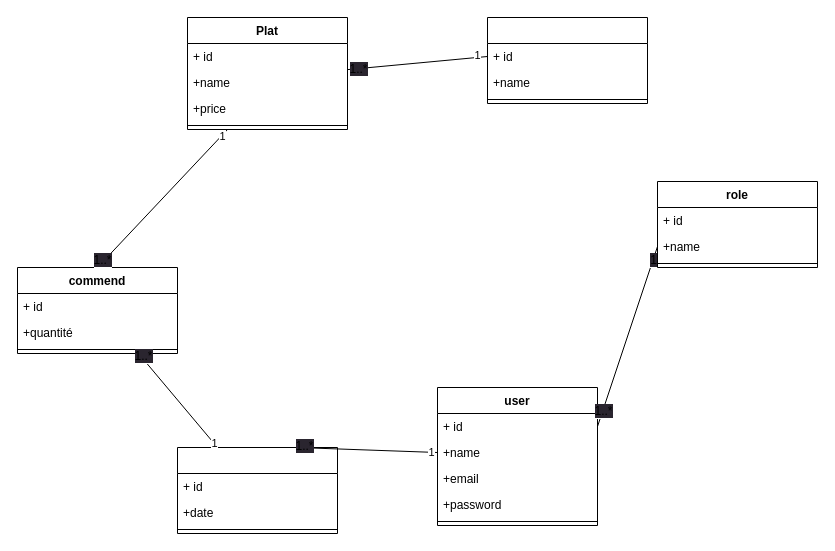
Some shapes in this 835 by 551 pixel diagram are drawn without their labels. Here are the shapes that lost their labels. From the top down, the box of each, then its label:
(486, 16, 648, 104): Menu
(176, 446, 338, 534): order
